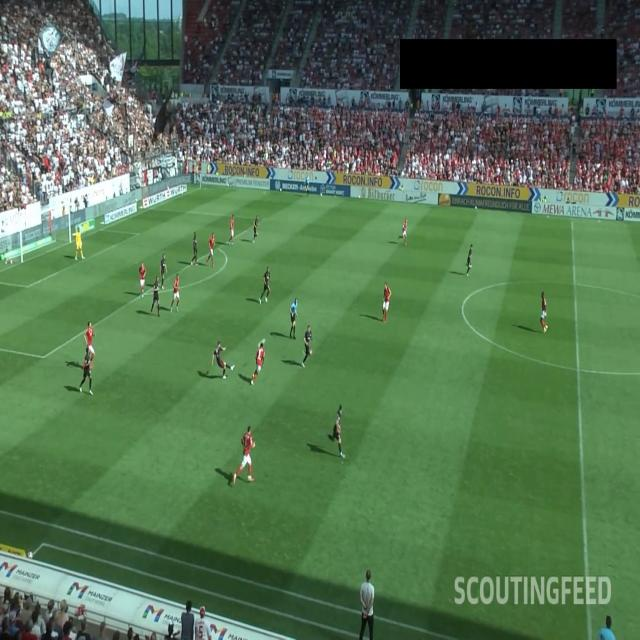ball: (256, 337, 266, 348)
